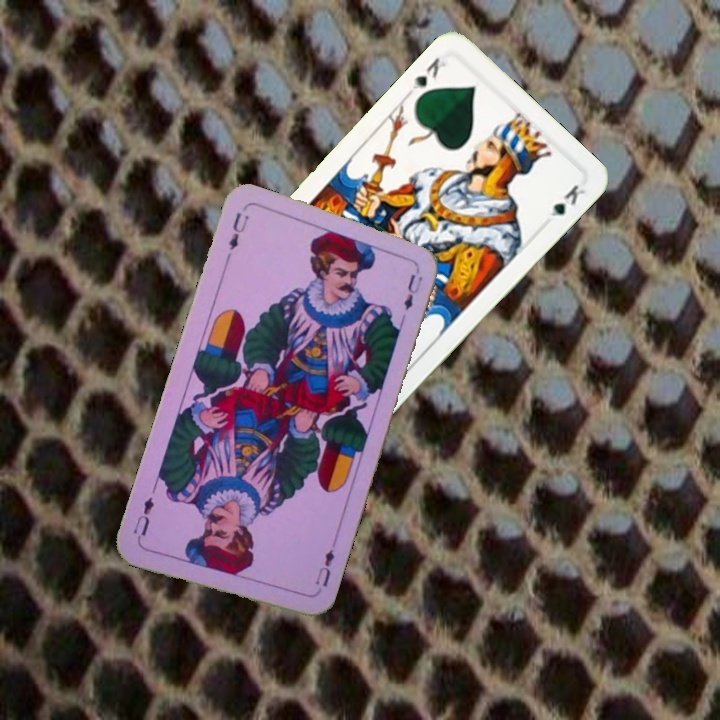EU: (311, 544, 337, 590), (225, 208, 251, 253)
GK: (404, 52, 449, 98)
